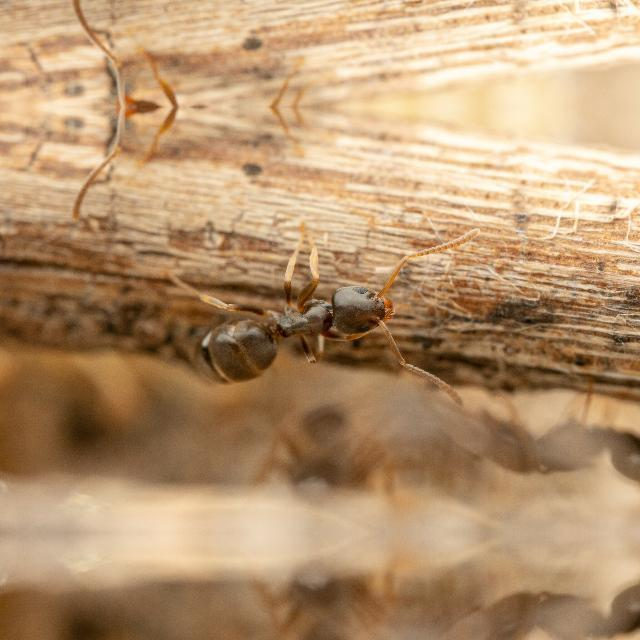Tapinoma: (160, 252, 442, 396)
